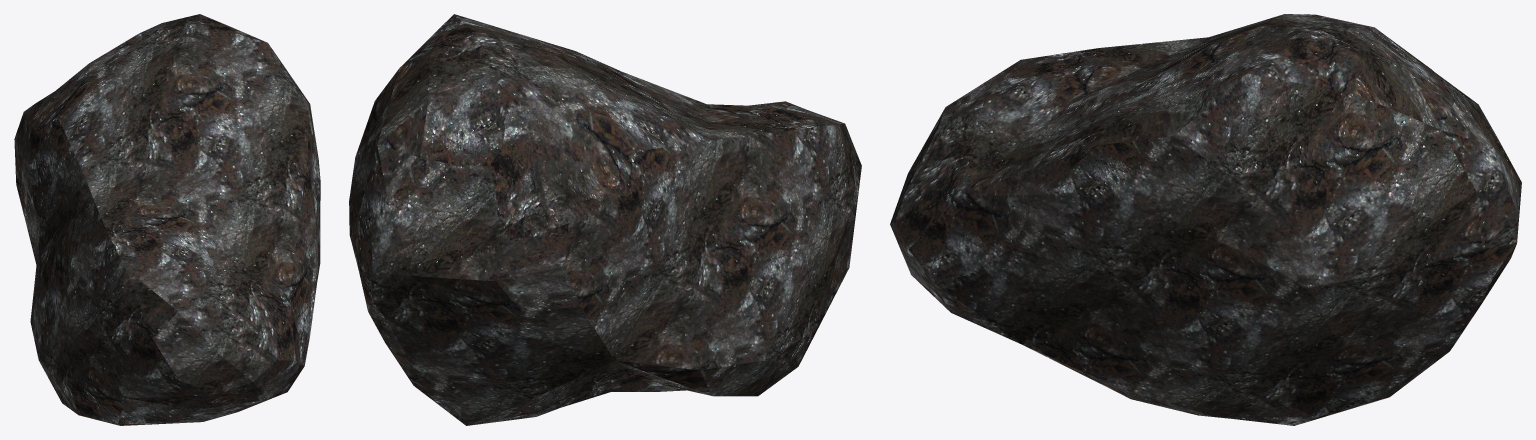
File: KOHLE_NUGGET.glb
The picture shows the model from 3 angles, left to right: view 1: azimuth 30°, elevation 25°; view 2: azimuth 150°, elevation 25°; view 3: azimuth 270°, elevation 25°; orthographic projection. The views are drawn at different scales.
Visible parts, largest first — view 1: KOHLE_NUGGET; view 2: KOHLE_NUGGET; view 3: KOHLE_NUGGET.
Boxes of the visible parts, <box> form: KOHLE_NUGGET: <box>14,14,320,425</box>; KOHLE_NUGGET: <box>349,14,861,425</box>; KOHLE_NUGGET: <box>890,14,1521,425</box>.
Size of the model in its own units: 0.0946 by 0.094 by 0.134.
1 material, 1 textured.
